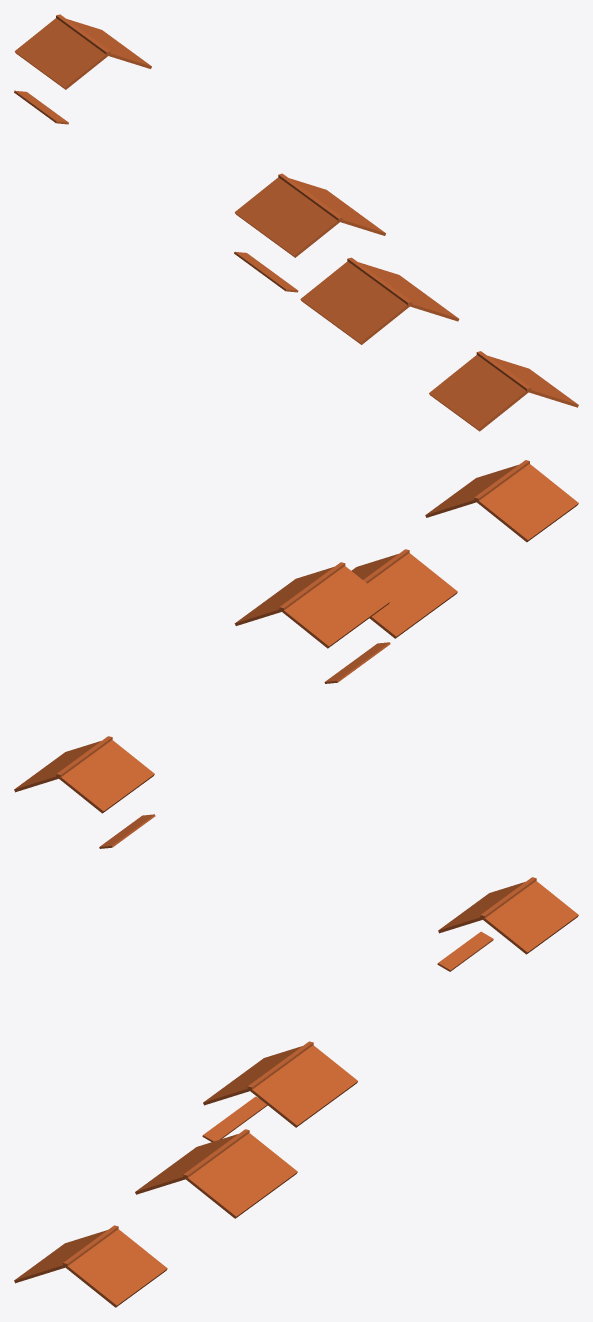
Rendered from HouseRoofsW_RoofOrange.fbx.
3 views of the same model, one above another, from view 1: azimuth 30°, elevation 25°; view 2: azimuth 150°, elevation 25°; view 3: azimuth 330°, elevation 25° (orthographic). The views are drawn at different scales.
Visible parts, largest first — view 1: RoofW0_-1.001; view 2: RoofW0_-1.001; view 3: RoofW0_-1.001.
Part boxes in pixels (box(x1,y1,x2,y2)): RoofW0_-1.001: box(14, 14, 578, 431); RoofW0_-1.001: box(14, 460, 578, 848); RoofW0_-1.001: box(14, 877, 578, 1307).
Size of the model in its own units: 2419 by 1502 by 18526.
